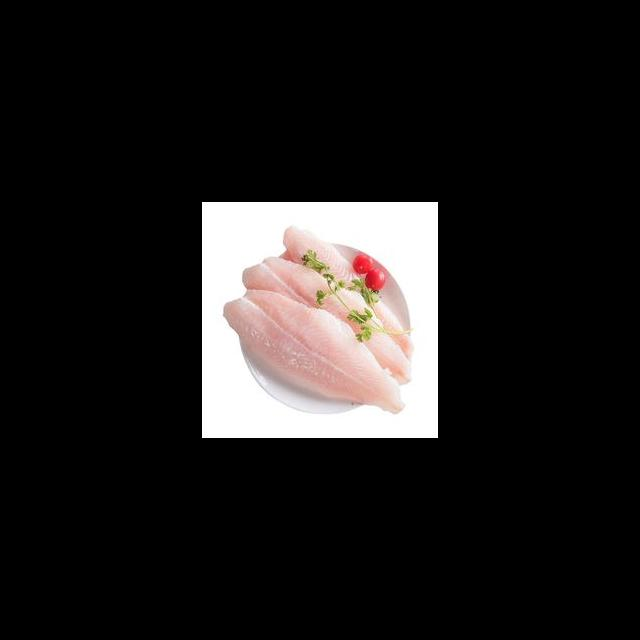fish: (220, 284, 410, 416)
